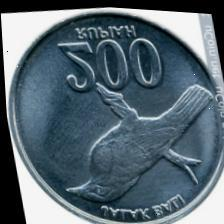coin_200_e2003: (9, 11, 224, 224)
